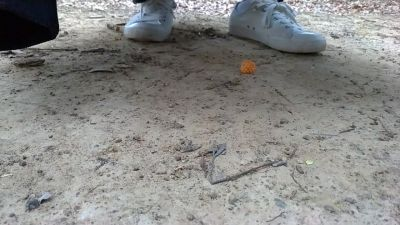eggs: (240, 58, 258, 77)
